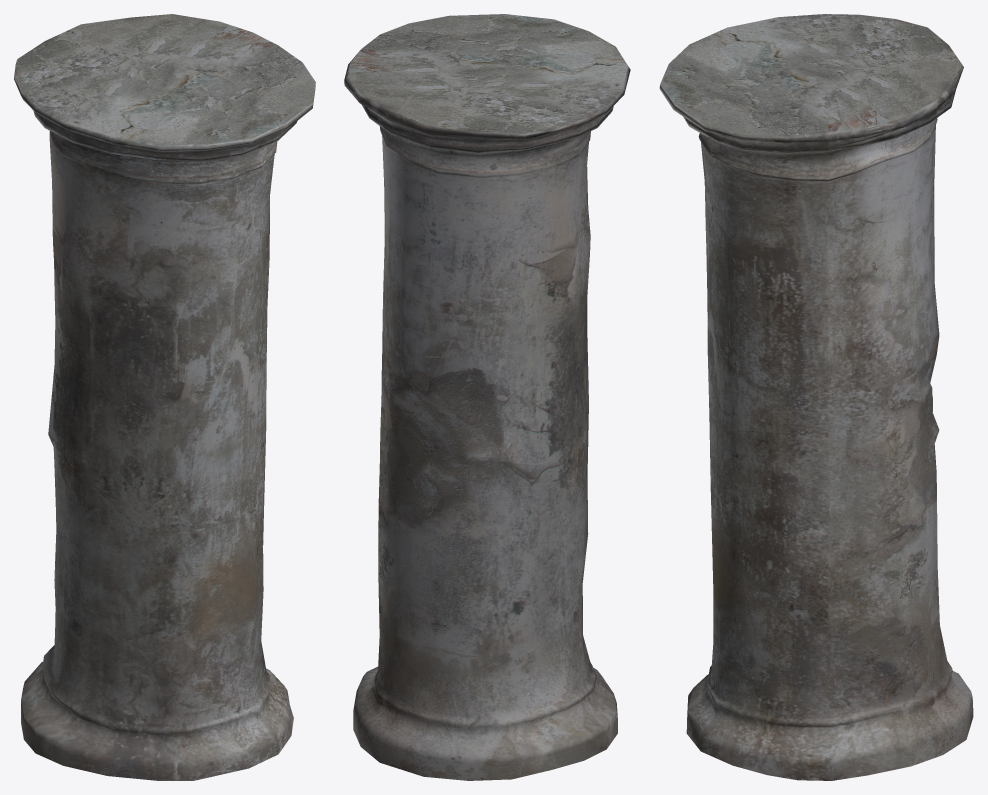
Rendered from SM_CryptColumn_01_05.fbx.
The picture shows the model from 3 angles, left to right: view 1: azimuth 30°, elevation 25°; view 2: azimuth 150°, elevation 25°; view 3: azimuth 270°, elevation 25°; orthographic projection.
Visible parts, largest first — view 1: sm_CryptColumn_01_05_LOD0; view 2: sm_CryptColumn_01_05_LOD0; view 3: sm_CryptColumn_01_05_LOD0.
Part boxes in pixels (x1=…): sm_CryptColumn_01_05_LOD0: x1=14, y1=14, x2=315, y2=780; sm_CryptColumn_01_05_LOD0: x1=344, y1=14, x2=630, y2=780; sm_CryptColumn_01_05_LOD0: x1=659, y1=14, x2=973, y2=780.
Bounding box in the file's own units: 82.06 × 75.52 × 189.
